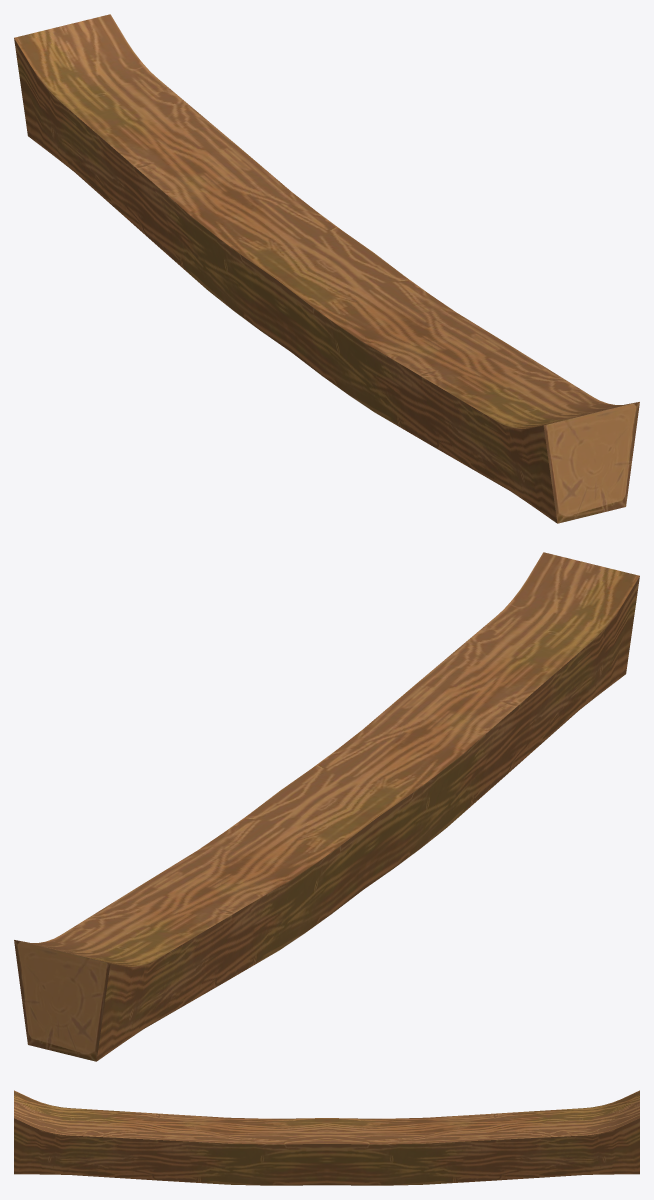
The model's file is Roof_Log.gltf.
3 renders of one model, top to bottom at view 1: azimuth 30°, elevation 25°; view 2: azimuth 150°, elevation 25°; view 3: azimuth 270°, elevation 25°, orthographic. The views are drawn at different scales.
Visible parts, largest first — view 1: Roof_Log; view 2: Roof_Log; view 3: Roof_Log.
Part boxes in pixels (x1=…): Roof_Log: x1=14, y1=14, x2=639, y2=523; Roof_Log: x1=14, y1=552, x2=639, y2=1061; Roof_Log: x1=14, y1=1090, x2=639, y2=1185.
Bounding box in the file's own units: 1.15 × 1.39 × 10.7.
Materials: 1 (1 with a texture image).
